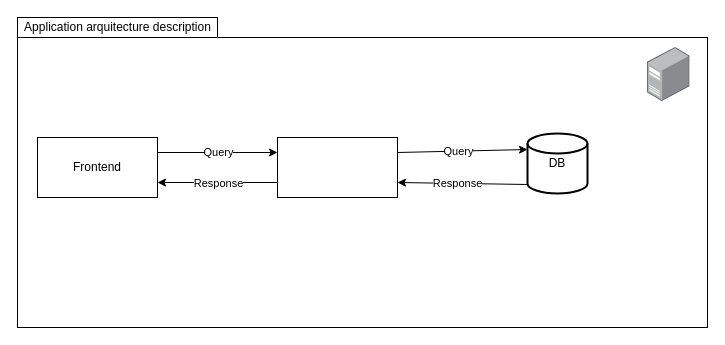
This 725x345 diagram has some shape labels left out. The shapes that lost their labels are listed below. From the top down, each one's centre as x and y in pixels, then its label:
pixel 668 74: On-premise Server
pixel 337 167: Backend
